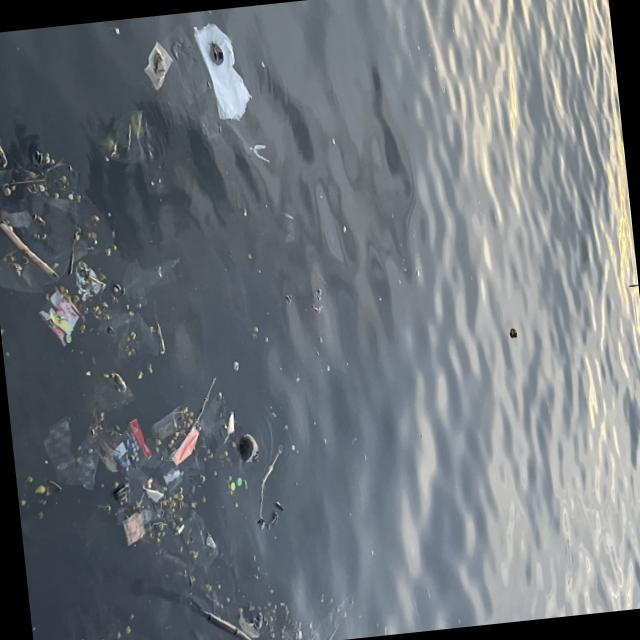foam: (226, 413, 236, 436)
plastic bag: (197, 26, 255, 124)
